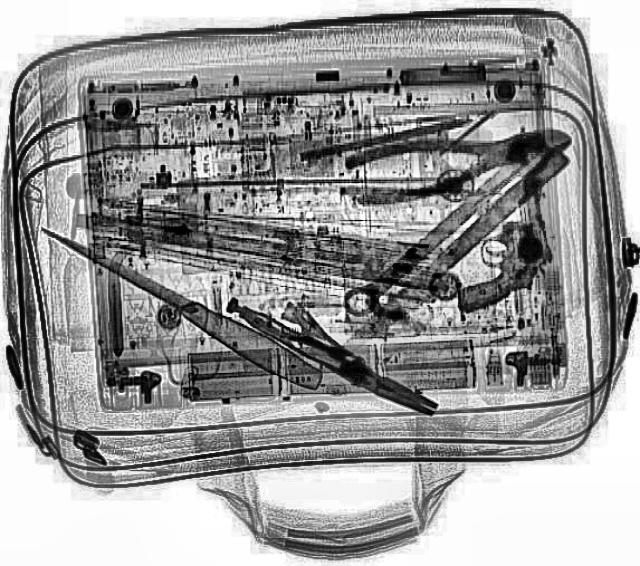Gun: (442, 153, 556, 313)
Knife: (318, 146, 570, 366), (30, 219, 328, 392)
Pliers: (342, 113, 578, 210)
